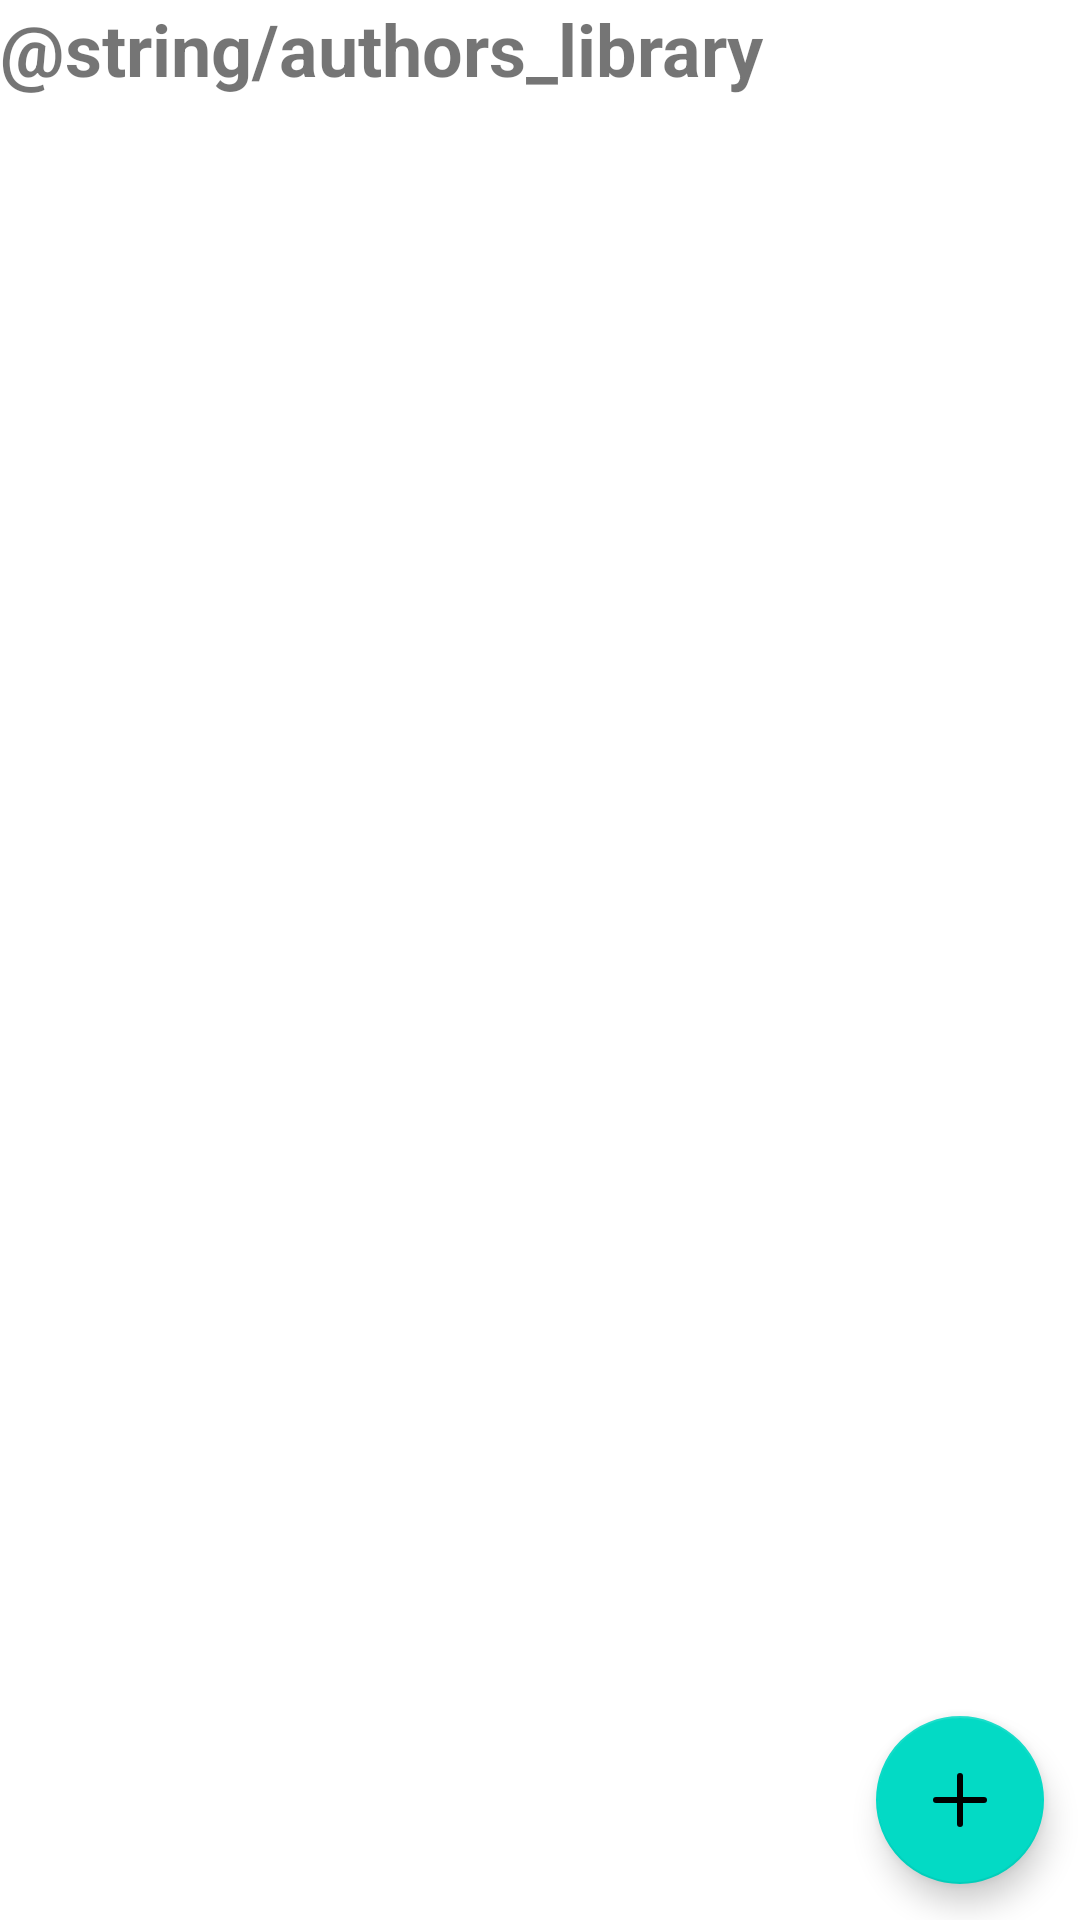

Icon bounding boxes for this 1080*1920 phone screenshot, format (x1, y1, x2, y2):
plus: (876, 1716, 1044, 1884)
